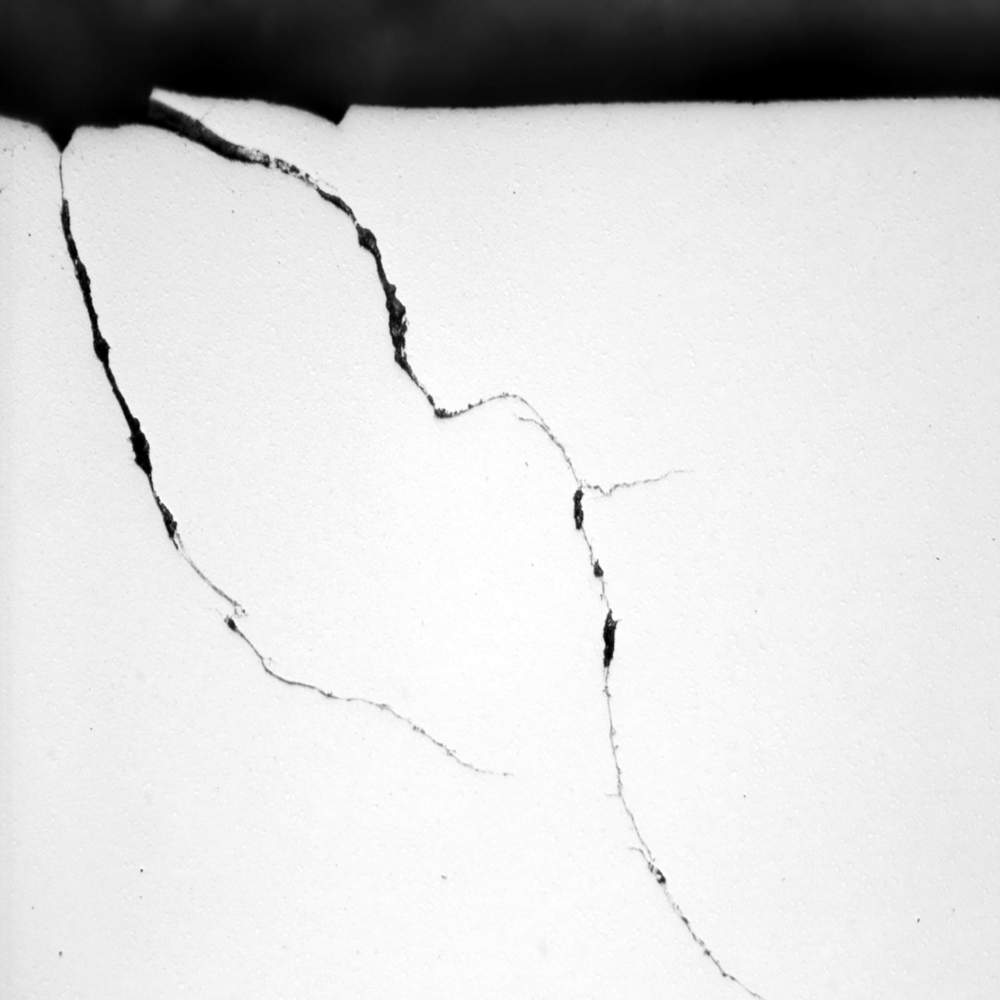crack: (1, 107, 790, 999)
